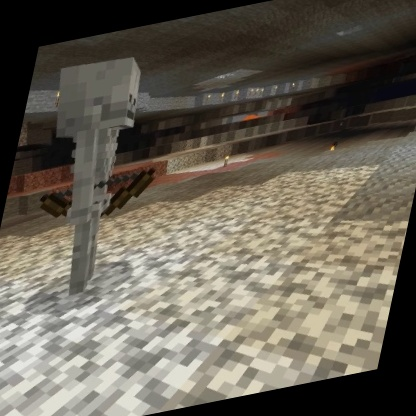skeleton: (4, 40, 189, 313)
